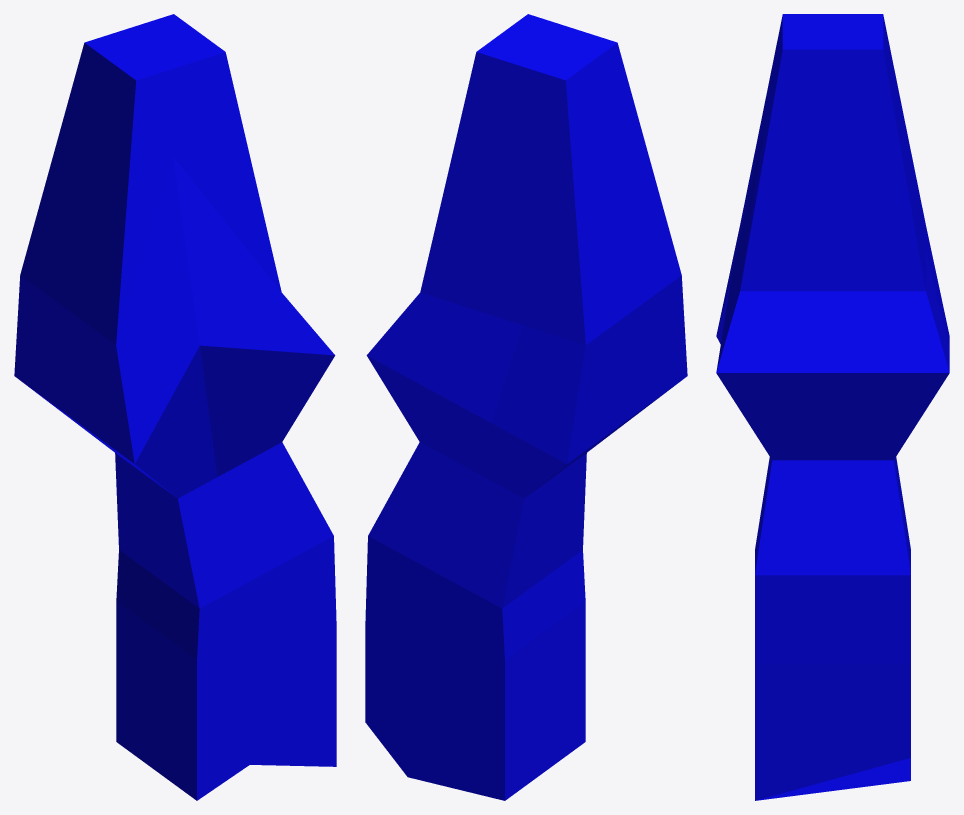
File: Randon_Crystal_02.fbx
3 renders of one model, left to right at view 1: azimuth 30°, elevation 25°; view 2: azimuth 150°, elevation 25°; view 3: azimuth 270°, elevation 25°, orthographic. The views are drawn at different scales.
Parts seen in each view (by area): view 1: Randon_Crystal_02; view 2: Randon_Crystal_02; view 3: Randon_Crystal_02.
Boxes of the visible parts, x1,y1,x2,y2 form: Randon_Crystal_02: [14, 14, 336, 800]; Randon_Crystal_02: [365, 14, 687, 800]; Randon_Crystal_02: [716, 14, 949, 800].
Bounding box in the file's own units: 1.88 × 5.72 × 1.72.
